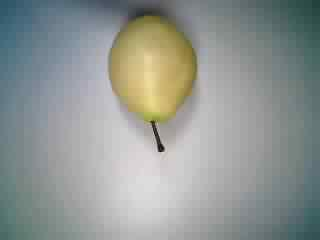pear: (97, 7, 211, 161)
